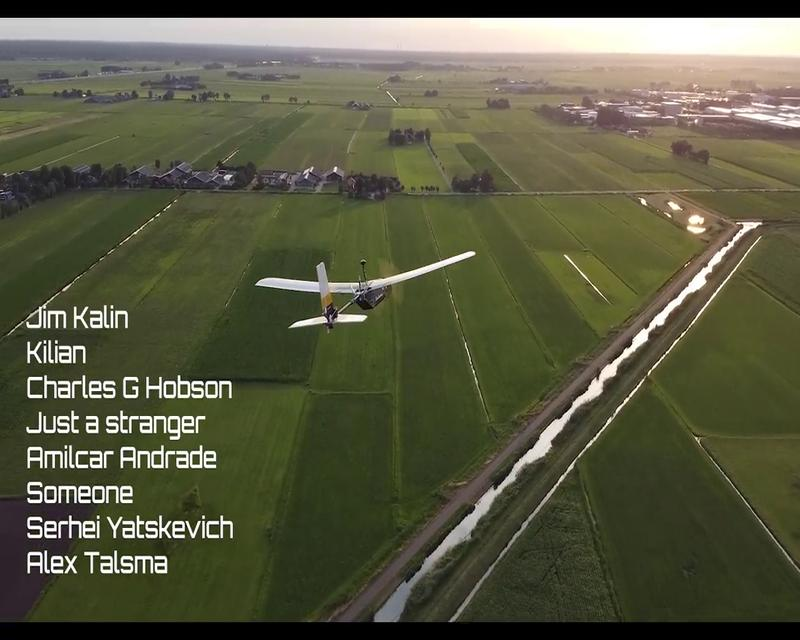UAV: (254, 250, 476, 334)
